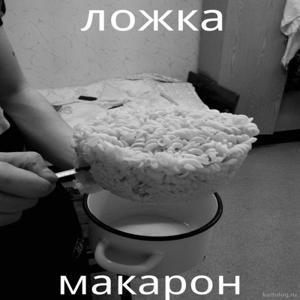pasta: (77, 86, 267, 210)
